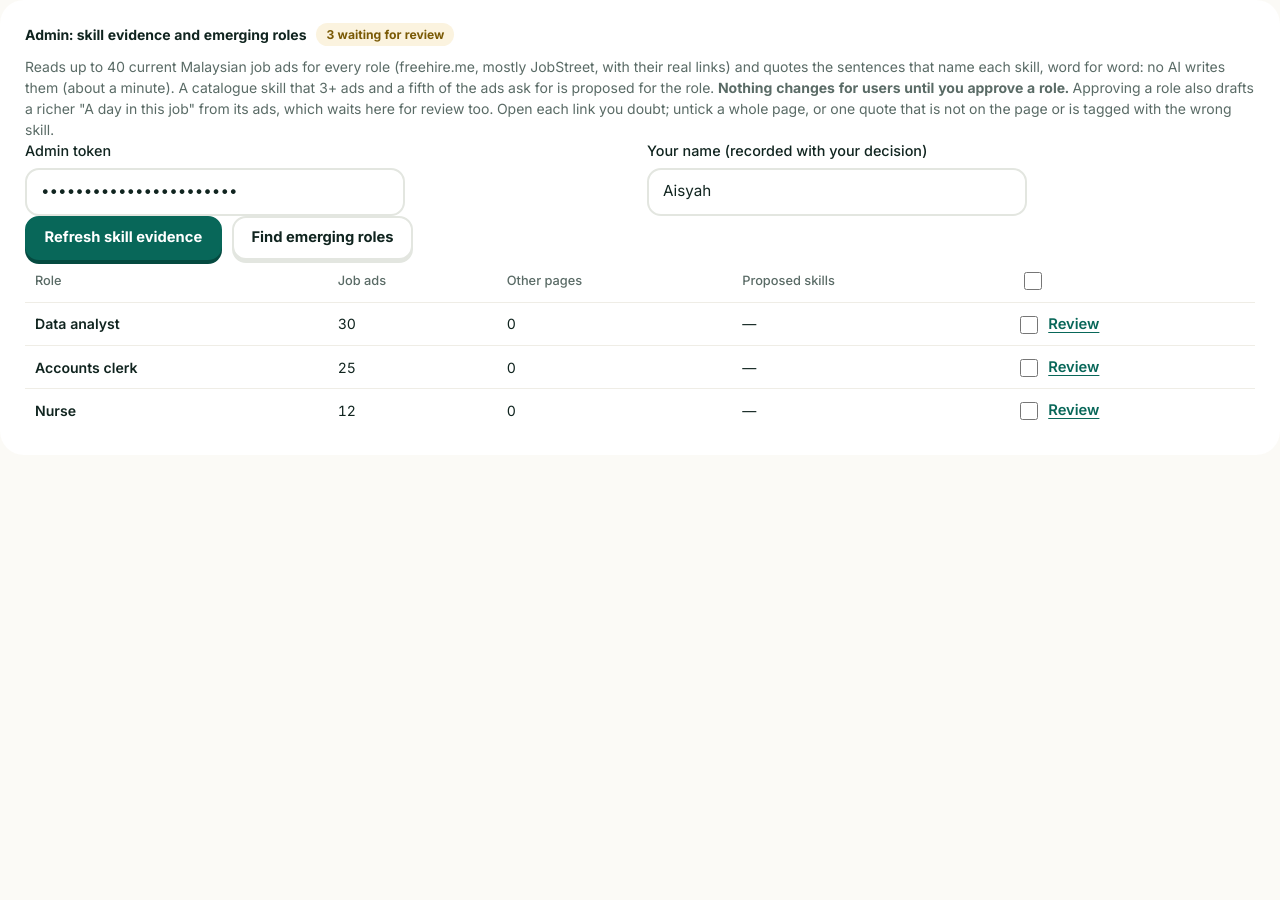
Test: EvidencePanel bulk review › approves the ticked roles together and leaves the rest waiting
Click the checkbox named "Select Data analyst". click: (1029, 325)
box: [1020,316,1038,334]
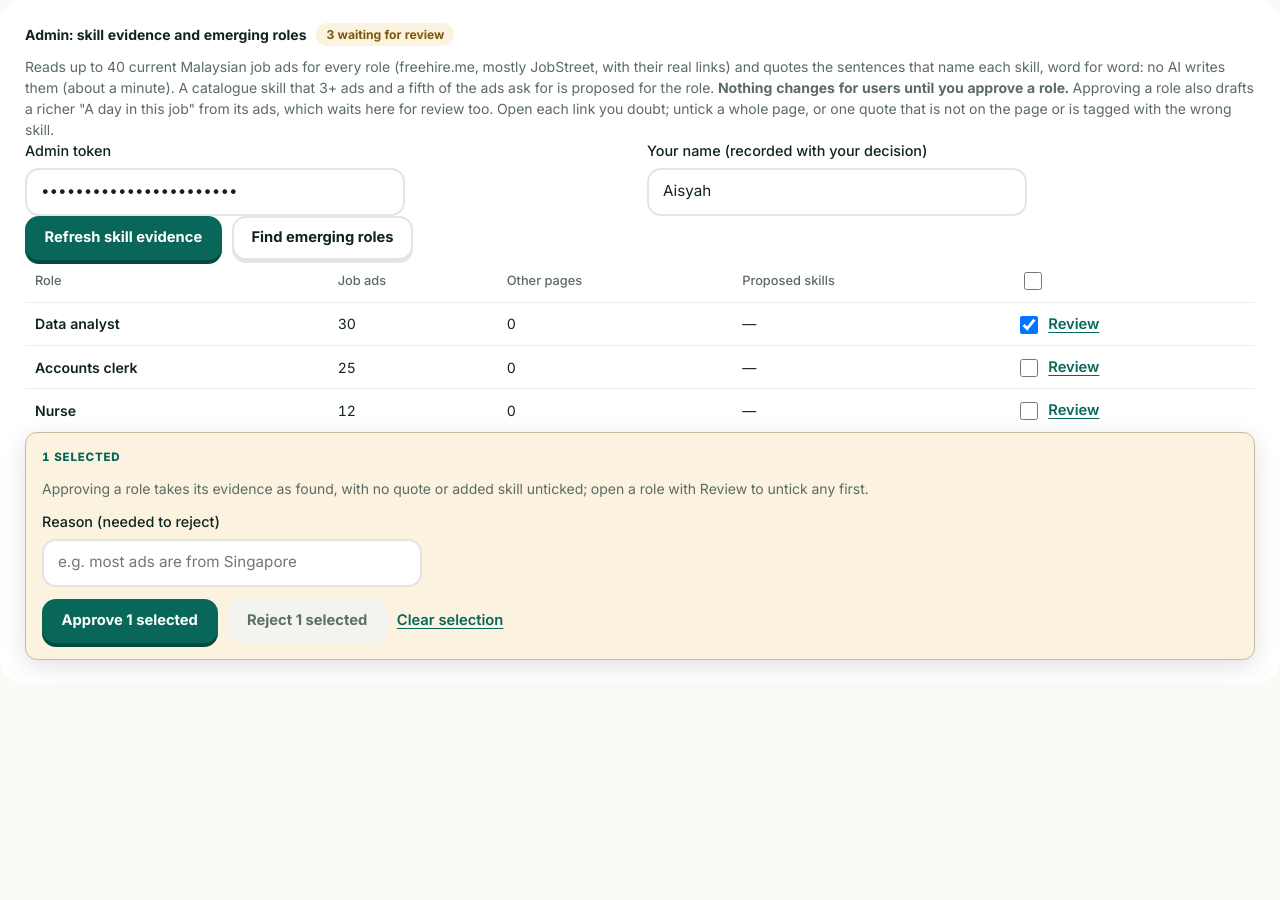
Click the checkbox named "Select Nurse". click: (1029, 411)
box: [1020,402,1038,420]
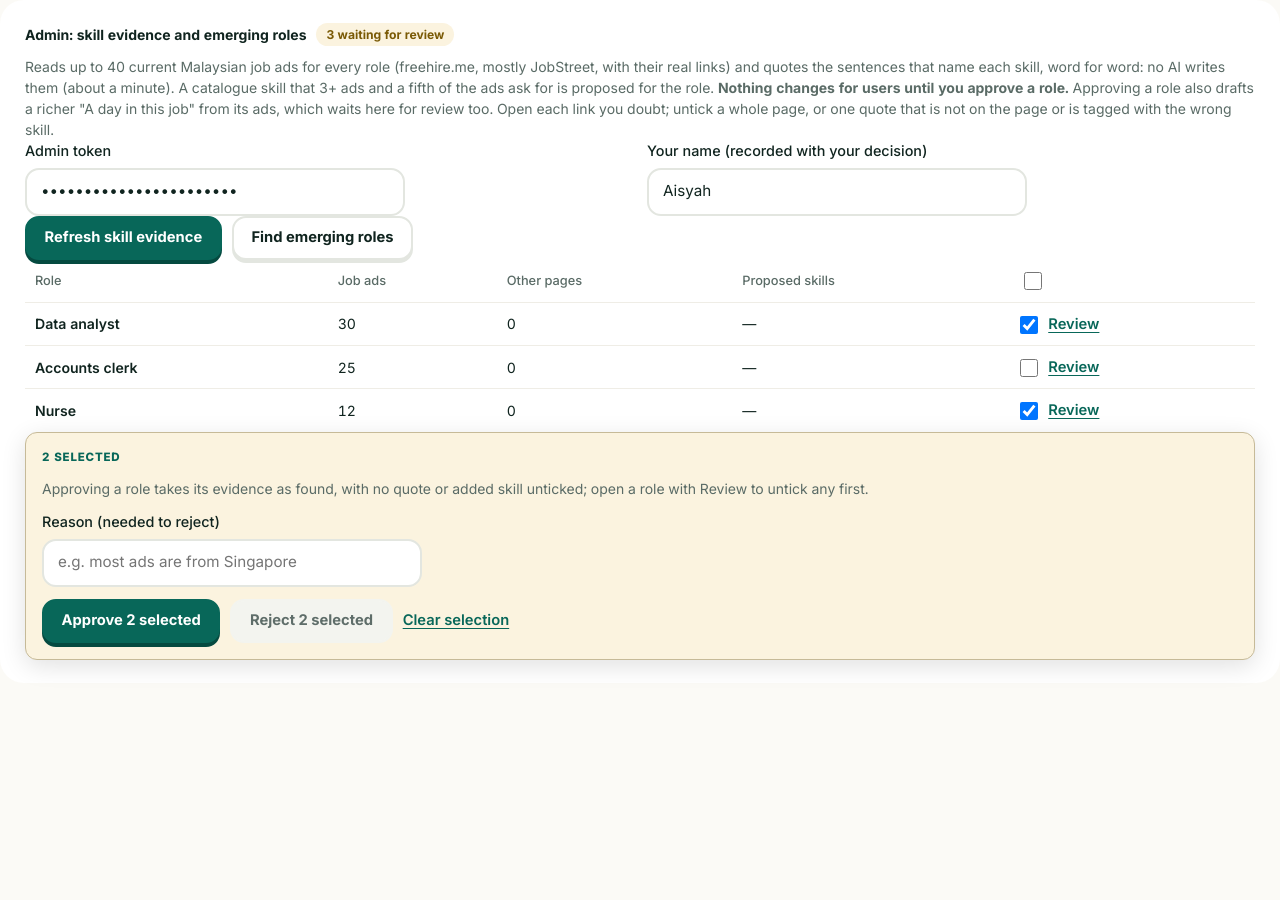
Click the button "Approve 2 selected". click: (131, 621)
box: [42,599,220,643]
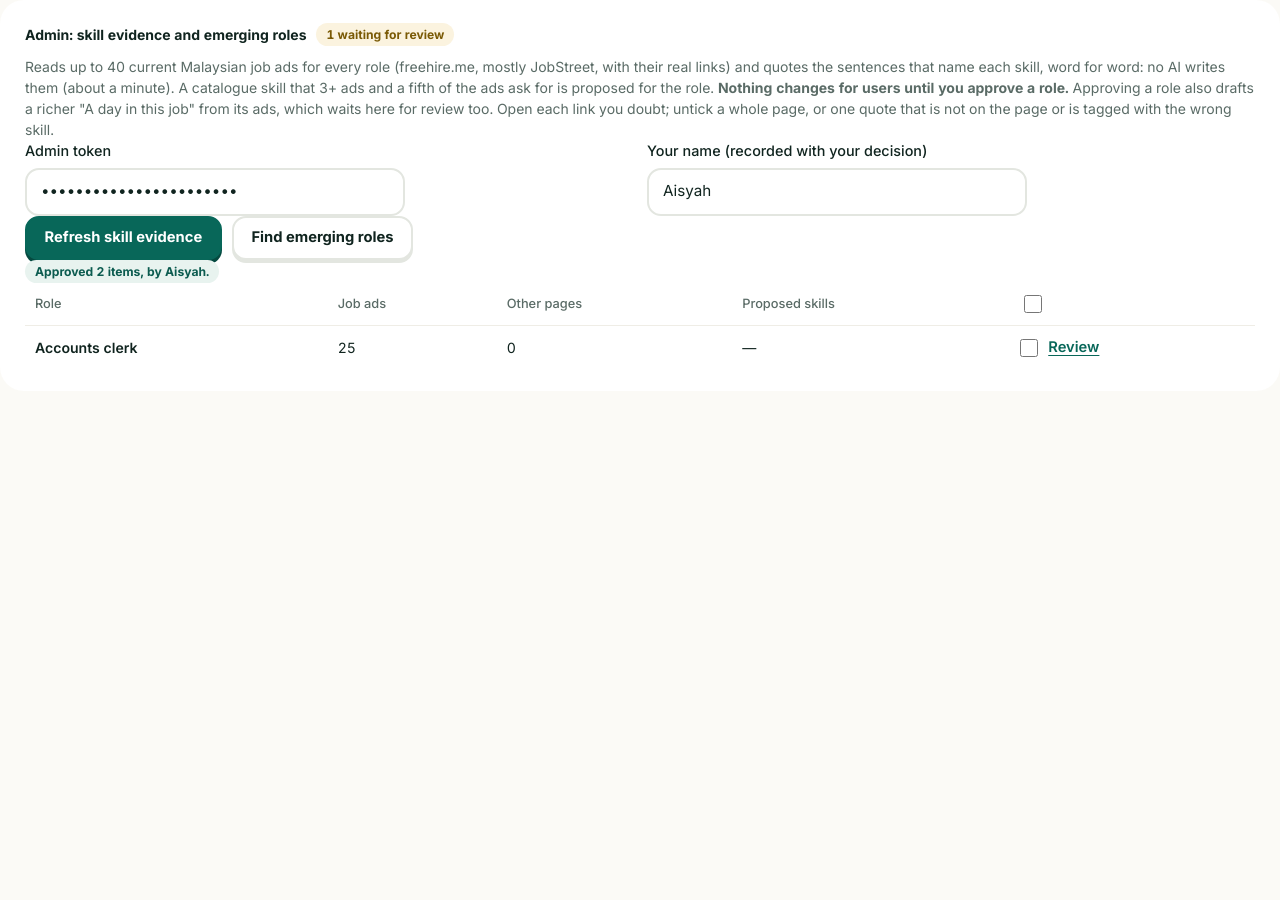
Expected: the checkbox named "Select Accounts clerk" is shown, [1020,339,1038,357]
Expected: the text "Approved 2 items, by Aisyah." is shown, [25,260,219,283]
